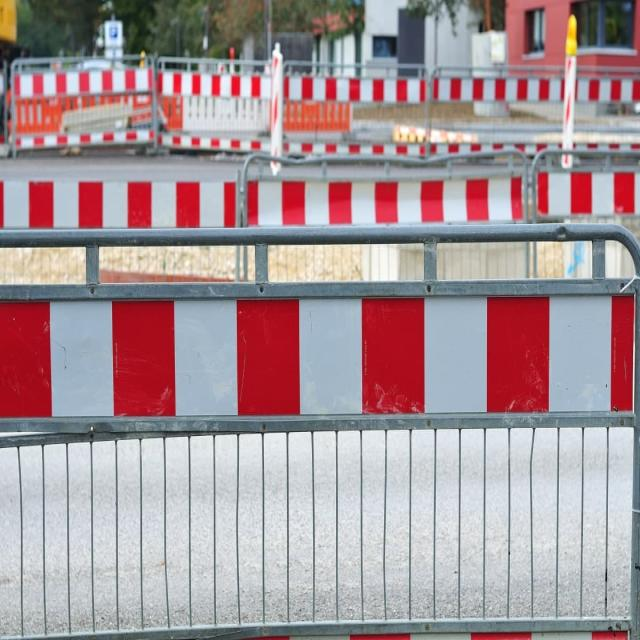cone: (1, 219, 638, 637)
